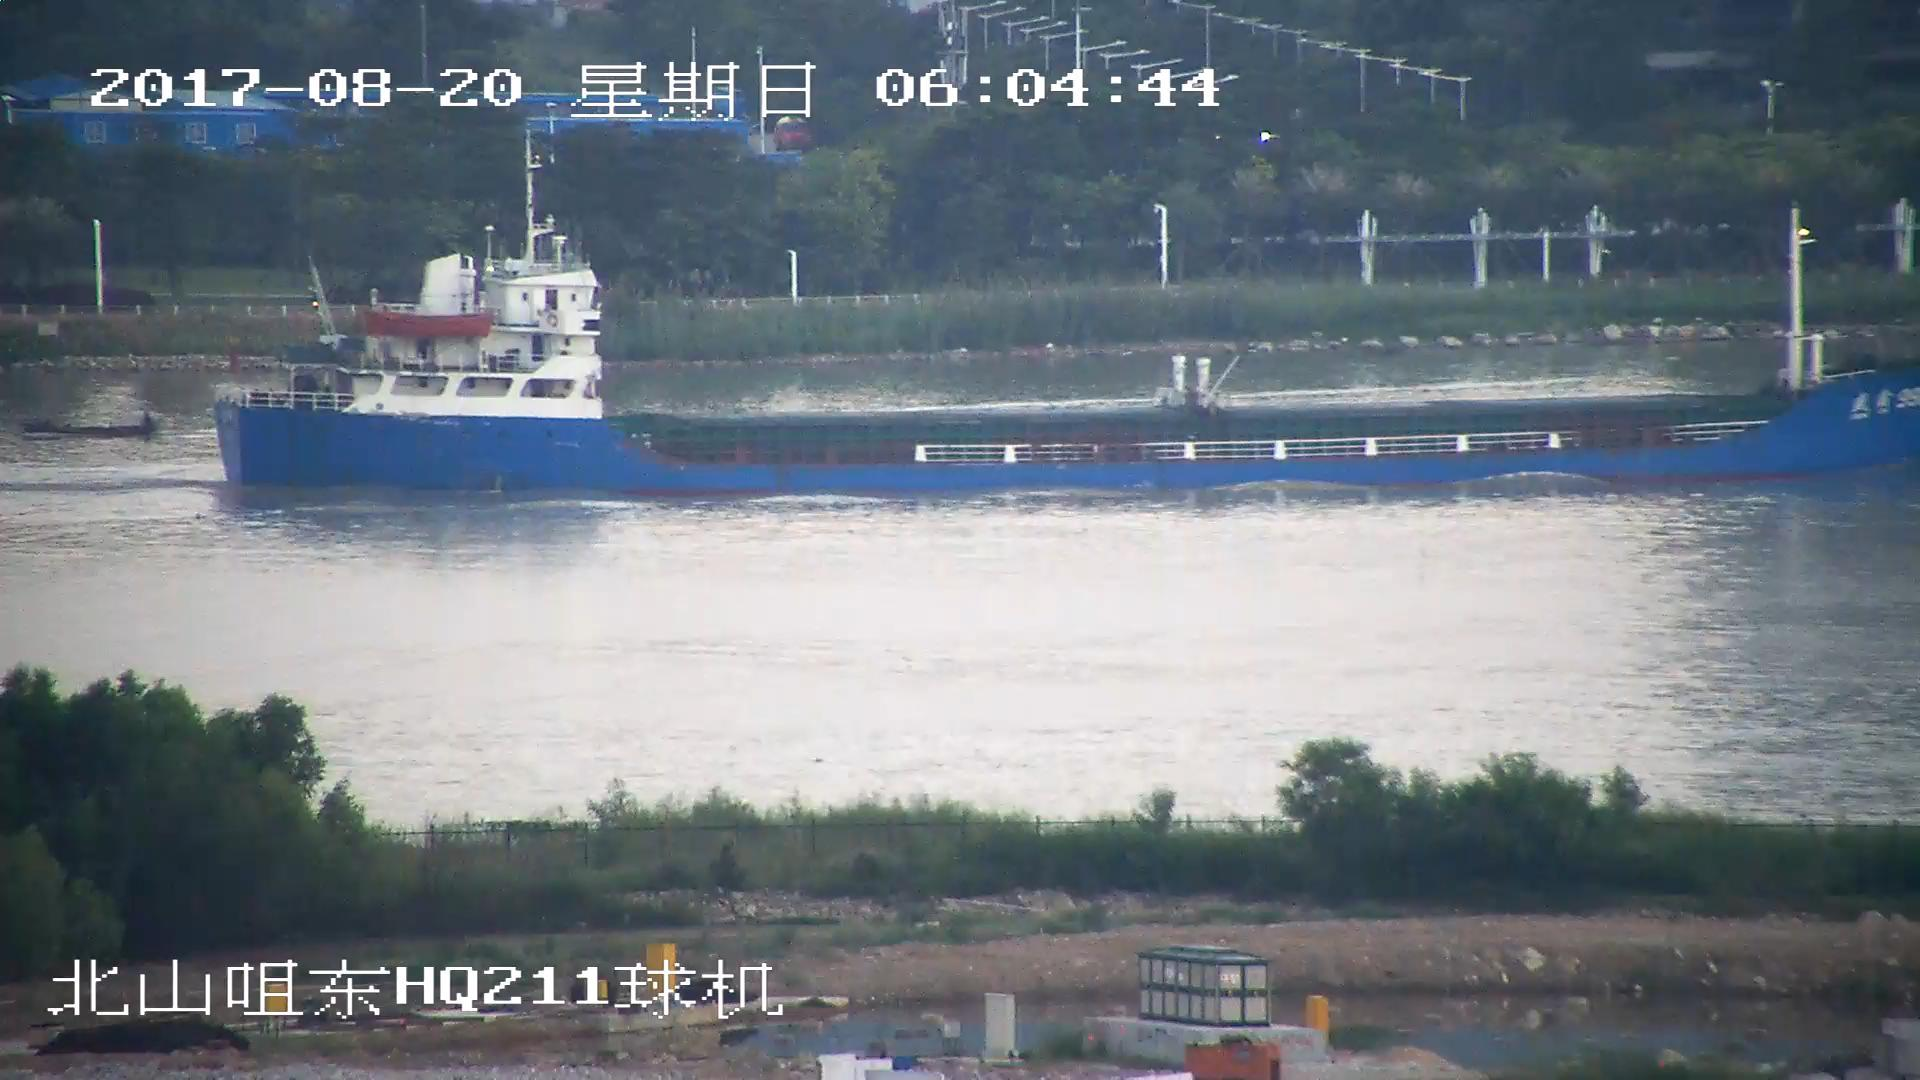Ship: (218, 164, 1920, 498), (32, 413, 154, 440)
